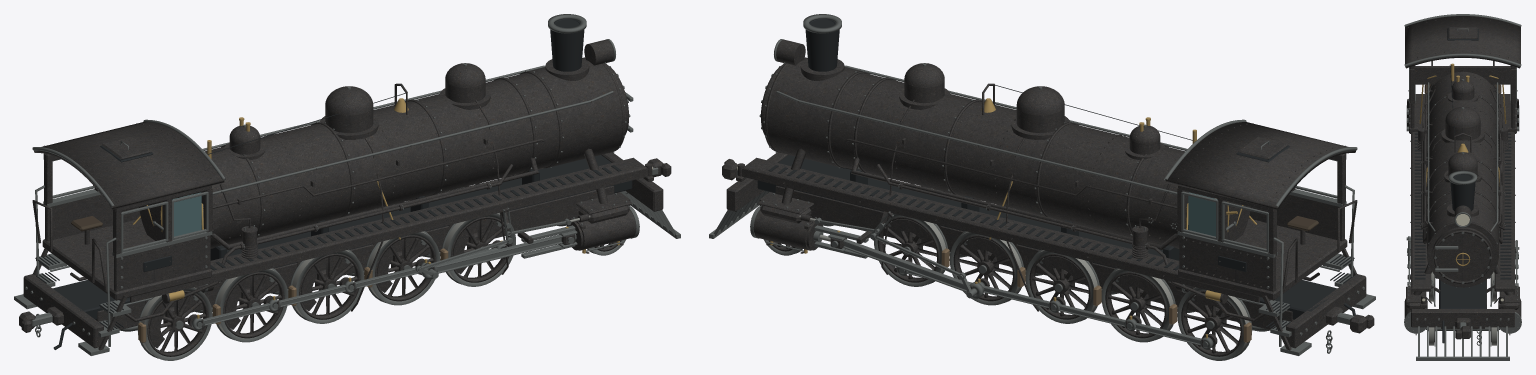
File: Model_LocomotiveRig.glb
3 renders of one model, left to right at view 1: azimuth 30°, elevation 25°; view 2: azimuth 150°, elevation 25°; view 3: azimuth 270°, elevation 25°, orthographic. The views are drawn at different scales.
Visible parts, largest first — view 1: Model_LocomotiveRoot_AgedIron, Model_LocomotiveRoot_WornSteel, Model_LocomotiveRoot_Soot, Model_Driver5Right_AgedIron, Model_Driver4Right_AgedIron, Model_Driver3Right_AgedIron, Model_Driver2Right_AgedIron, Model_Driver1Right_AgedIron, Model_MainRodRight_WornSteel, Model_Driver2Right_WornSteel, Model_Driver4Right_WornSteel, Model_LocomotiveRoot_CabGlass (+8 smaller); view 2: Model_LocomotiveRoot_AgedIron, Model_LocomotiveRoot_WornSteel, Model_LocomotiveRoot_Soot, Model_Driver4Left_AgedIron, Model_Driver3Left_AgedIron, Model_Driver2Left_AgedIron, Model_Driver5Left_AgedIron, Model_Driver1Left_AgedIron, Model_MainRodLeft_WornSteel, Model_Driver2Left_WornSteel, Model_LocomotiveRoot_CabGlass, Model_Driver4Left_WornSteel (+8 smaller); view 3: Model_LocomotiveRoot_AgedIron, Model_LocomotiveRoot_WornSteel, Model_LocomotiveRoot_Soot, Model_LocomotiveRoot_AgedBrass, Model_LocomotiveRoot_StencilIvory, Model_LeadingWheelLeft_PolishedWheelTread, Model_LeadingWheelRight_PolishedWheelTread.
Part boxes in pixels (left/top/right/bottom): Model_LocomotiveRoot_AgedIron: left=19, top=39, right=671, bottom=350; Model_LocomotiveRoot_WornSteel: left=14, top=14, right=680, bottom=355; Model_LocomotiveRoot_Soot: left=35, top=18, right=632, bottom=349; Model_Driver5Right_AgedIron: left=147, top=291, right=208, bottom=356; Model_Driver4Right_AgedIron: left=223, top=272, right=284, bottom=338; Model_Driver3Right_AgedIron: left=299, top=253, right=360, bottom=319; Model_Driver2Right_AgedIron: left=375, top=235, right=436, bottom=301; Model_Driver1Right_AgedIron: left=450, top=216, right=512, bottom=282; Model_MainRodRight_WornSteel: left=421, top=234, right=562, bottom=279; Model_Driver2Right_WornSteel: left=366, top=231, right=440, bottom=305; Model_Driver4Right_WornSteel: left=214, top=268, right=288, bottom=342; Model_LocomotiveRoot_CabGlass: left=172, top=192, right=201, bottom=236; Model_LocomotiveRoot_AgedIron: left=722, top=39, right=1374, bottom=350; Model_LocomotiveRoot_WornSteel: left=709, top=14, right=1375, bottom=355; Model_LocomotiveRoot_Soot: left=757, top=18, right=1355, bottom=329; Model_Driver4Left_AgedIron: left=1105, top=272, right=1166, bottom=338; Model_Driver3Left_AgedIron: left=1029, top=253, right=1090, bottom=319; Model_Driver2Left_AgedIron: left=953, top=235, right=1014, bottom=301; Model_Driver5Left_AgedIron: left=1181, top=291, right=1242, bottom=356; Model_Driver1Left_AgedIron: left=877, top=216, right=939, bottom=282; Model_MainRodLeft_WornSteel: left=843, top=239, right=983, bottom=299; Model_Driver2Left_WornSteel: left=949, top=231, right=1023, bottom=305; Model_LocomotiveRoot_CabGlass: left=1188, top=192, right=1217, bottom=236; Model_Driver4Left_WornSteel: left=1101, top=268, right=1175, bottom=342; Model_LocomotiveRoot_AgedIron: left=1404, top=16, right=1521, bottom=339; Model_LocomotiveRoot_WornSteel: left=1404, top=14, right=1521, bottom=360; Model_LocomotiveRoot_Soot: left=1408, top=28, right=1517, bottom=343; Model_LocomotiveRoot_AgedBrass: left=1419, top=63, right=1506, bottom=266; Model_LocomotiveRoot_StencilIvory: left=1422, top=214, right=1503, bottom=301; Model_LeadingWheelLeft_PolishedWheelTread: left=1491, top=327, right=1496, bottom=345; Model_LeadingWheelRight_PolishedWheelTread: left=1429, top=327, right=1434, bottom=345.
Bounding box in the file's own units: 13.65 × 4.47 × 2.94.
9 materials, 1 textured.
